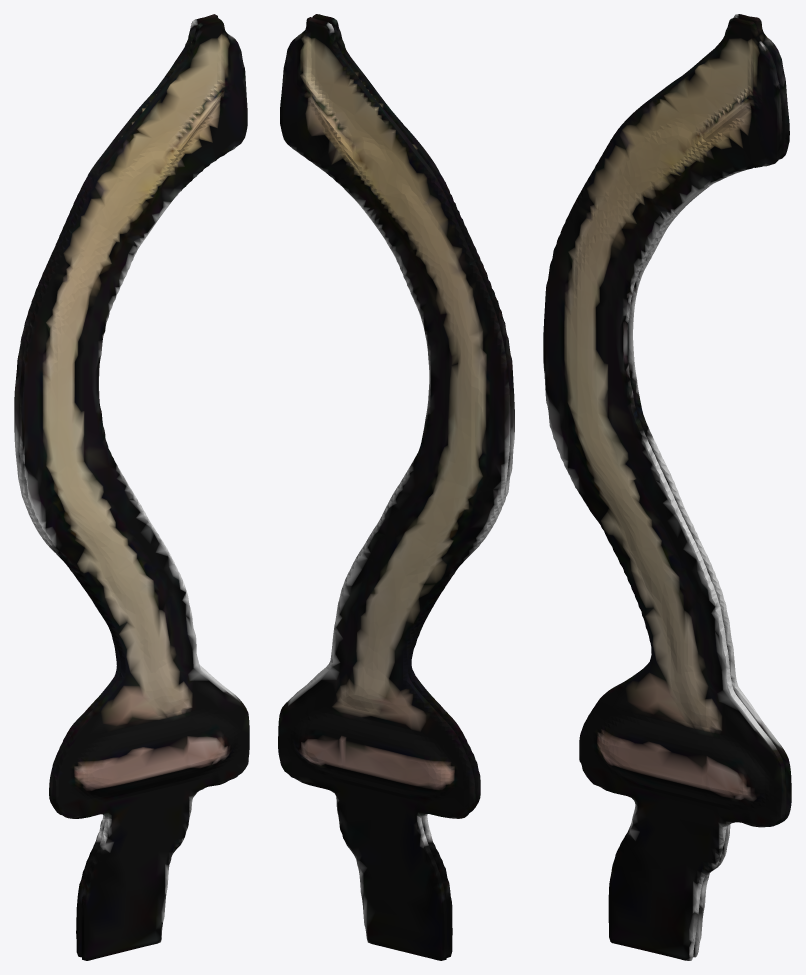
The model's file is b_sicklesword.glb.
3 views of the same model, side by side, from view 1: azimuth 30°, elevation 25°; view 2: azimuth 150°, elevation 25°; view 3: azimuth 330°, elevation 25° (orthographic). The views are drawn at different scales.
Visible parts, largest first — view 1: geometry_0; view 2: geometry_0; view 3: geometry_0.
Part boxes in pixels (x1,y1,x2,y2): geometry_0: (14,14,249,960); geometry_0: (278,14,514,960); geometry_0: (543,14,791,960).
Bounding box in the file's own units: 0.25 × 0.939 × 0.0333.
